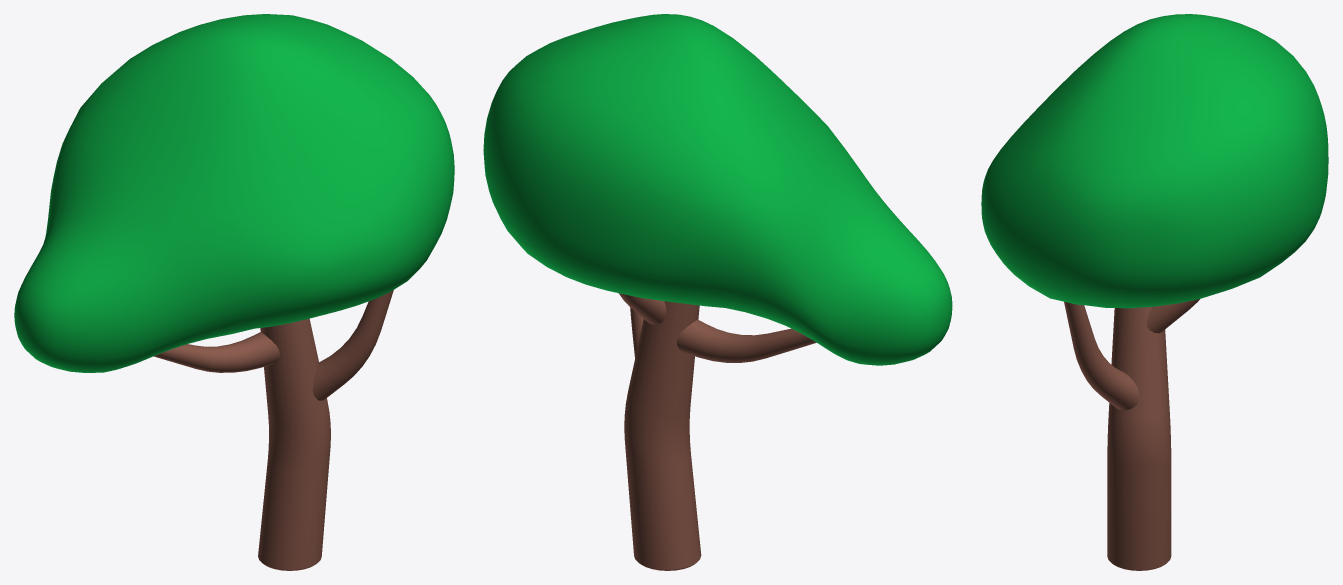
Rendered from Town_13_Tree_1.glb.
3 views of the same model, side by side, from view 1: azimuth 30°, elevation 25°; view 2: azimuth 150°, elevation 25°; view 3: azimuth 270°, elevation 25° (orthographic). The views are drawn at different scales.
Parts seen in each view (by area): view 1: Town_13_Tree_1; view 2: Town_13_Tree_1; view 3: Town_13_Tree_1.
Part boxes in pixels (x1=…): Town_13_Tree_1: x1=14, y1=14, x2=454, y2=570; Town_13_Tree_1: x1=483, y1=14, x2=952, y2=570; Town_13_Tree_1: x1=981, y1=14, x2=1328, y2=570.
Size of the model in its own units: 7.83 by 9.5 by 5.72.
1 material, 1 textured.
